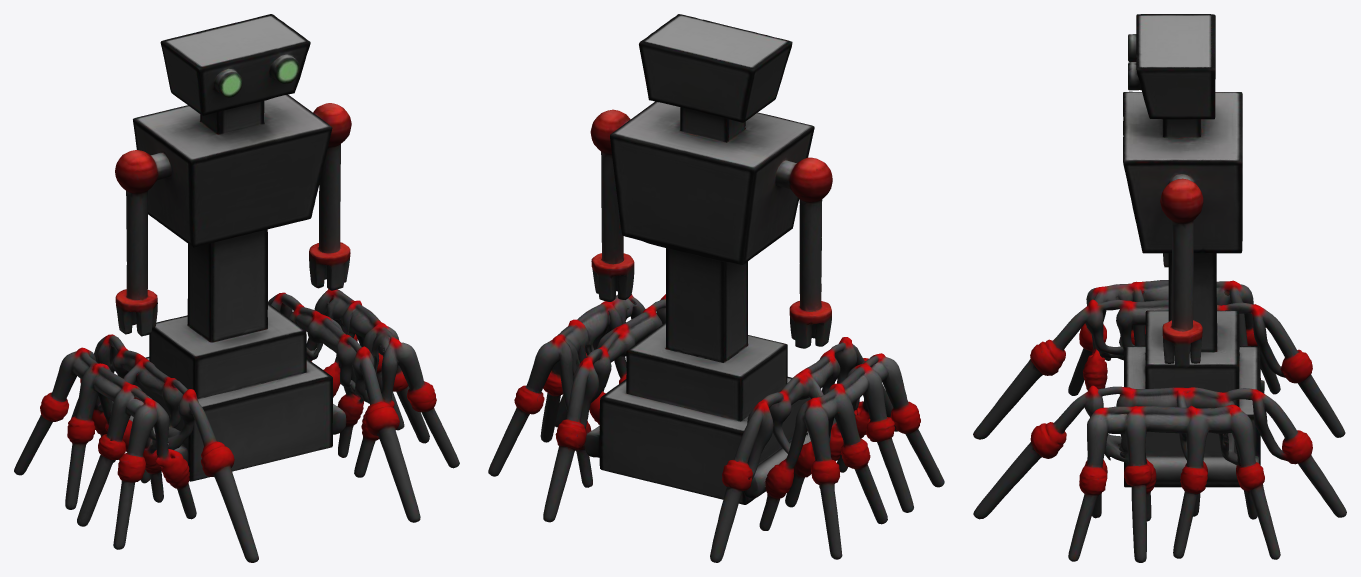
Rendered from robot.glb.
3 views of the same model, side by side, from view 1: azimuth 30°, elevation 25°; view 2: azimuth 150°, elevation 25°; view 3: azimuth 270°, elevation 25° (orthographic). The views are drawn at different scales.
Visible parts, largest first — view 1: geometry_0; view 2: geometry_0; view 3: geometry_0.
Boxes of the visible parts, x1=… form: geometry_0: x1=14, y1=14, x2=459, y2=562; geometry_0: x1=488, y1=14, x2=944, y2=562; geometry_0: x1=973, y1=14, x2=1346, y2=562.
Size of the model in its own units: 0.8564 by 1 by 0.7776.
Materials: 1 (1 with a texture image).
